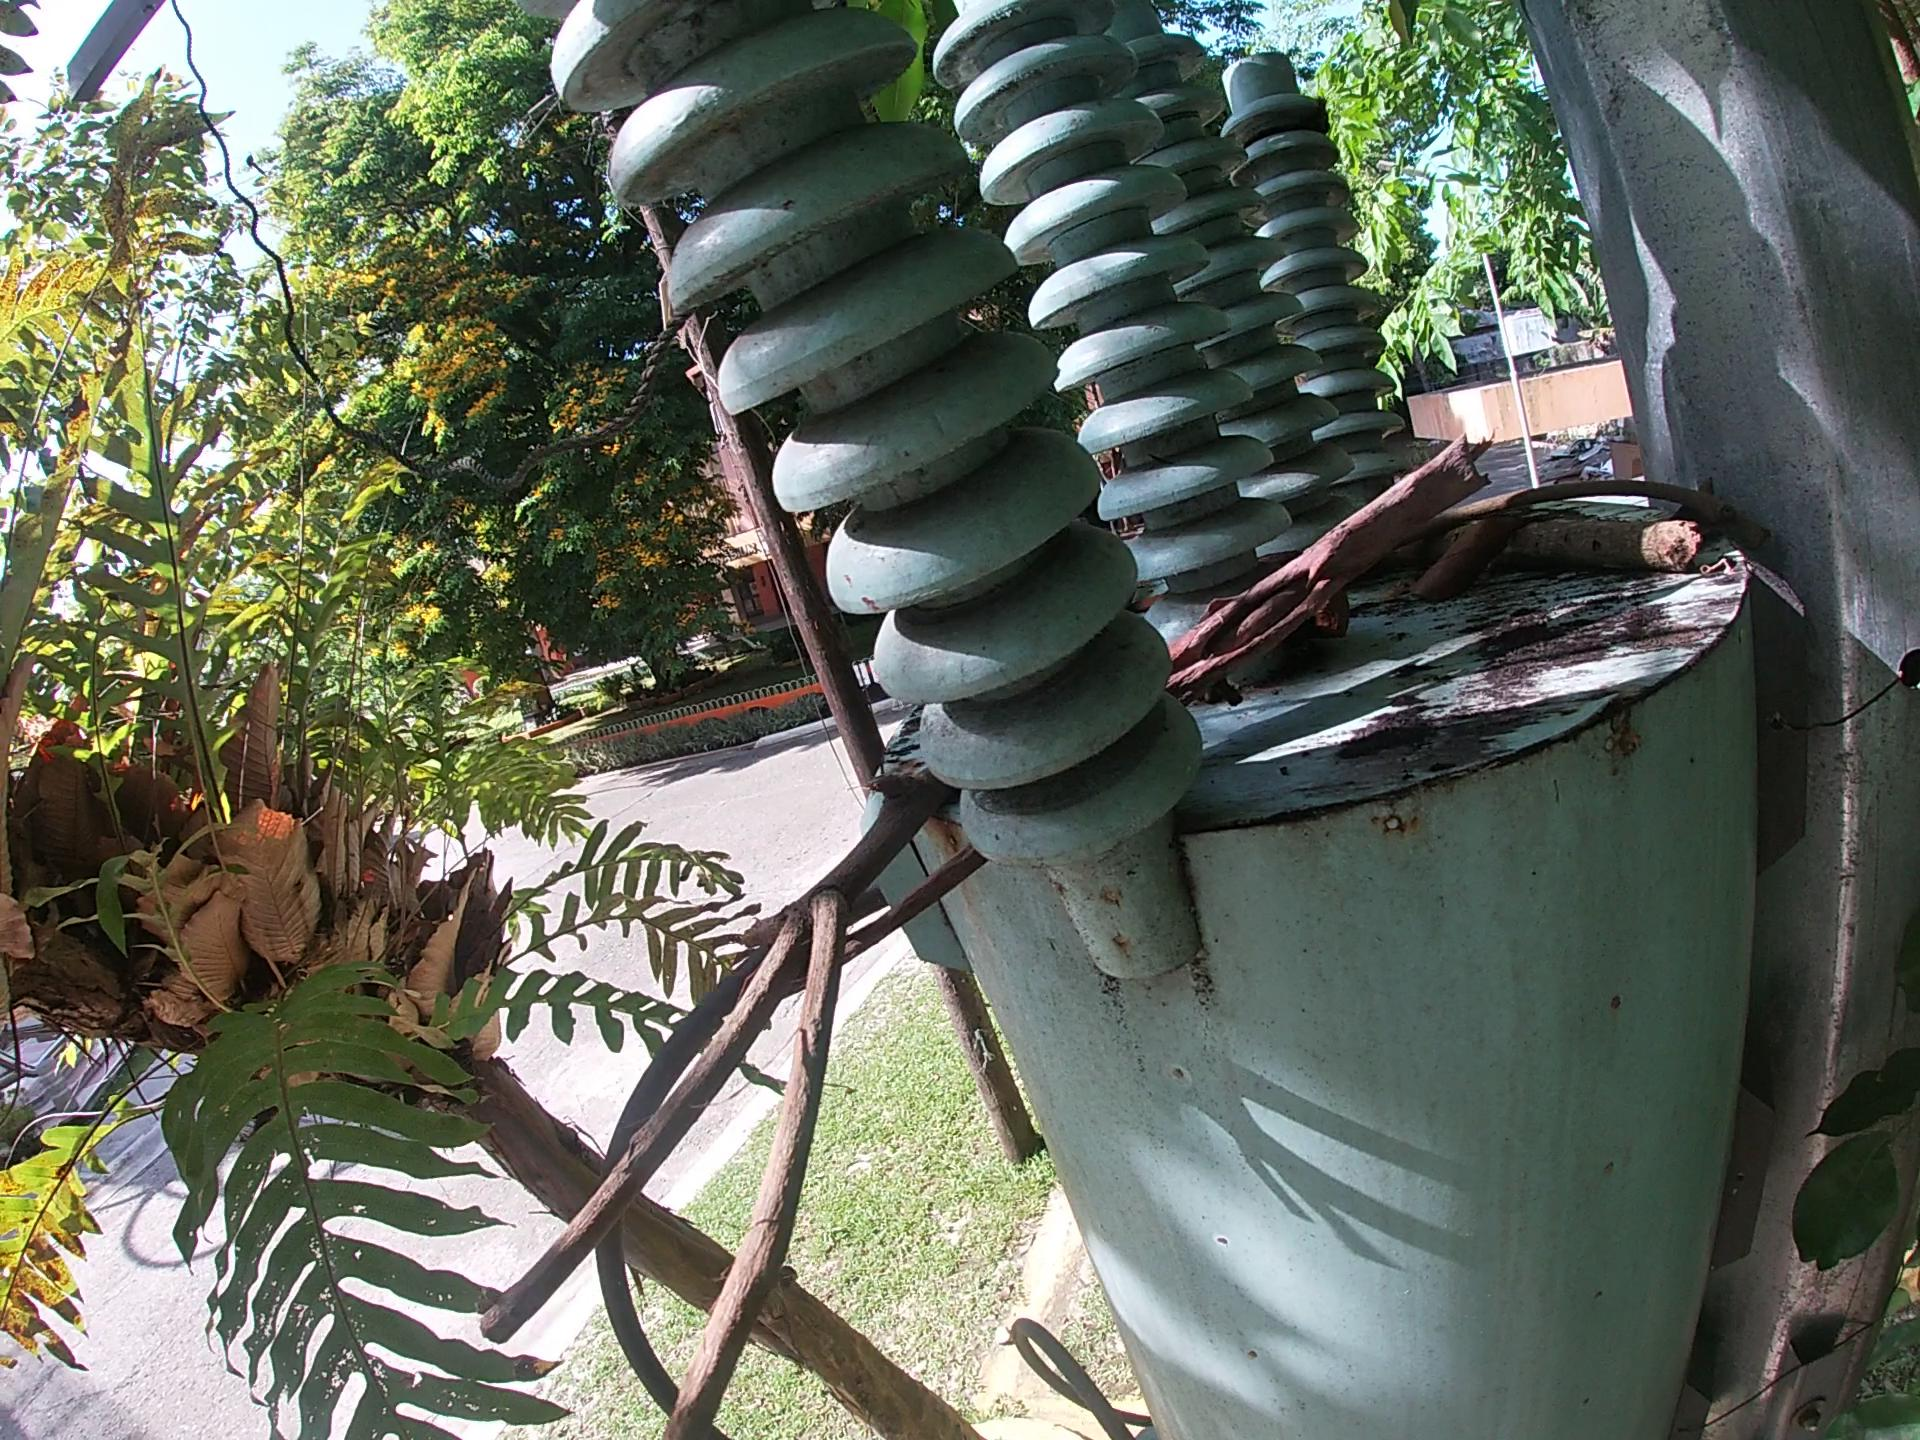leaf: (1400, 507, 1528, 605)
tree branch: (463, 750, 968, 1440), (1157, 425, 1500, 706), (770, 844, 986, 995), (1429, 470, 1779, 548), (1432, 511, 1699, 582)
